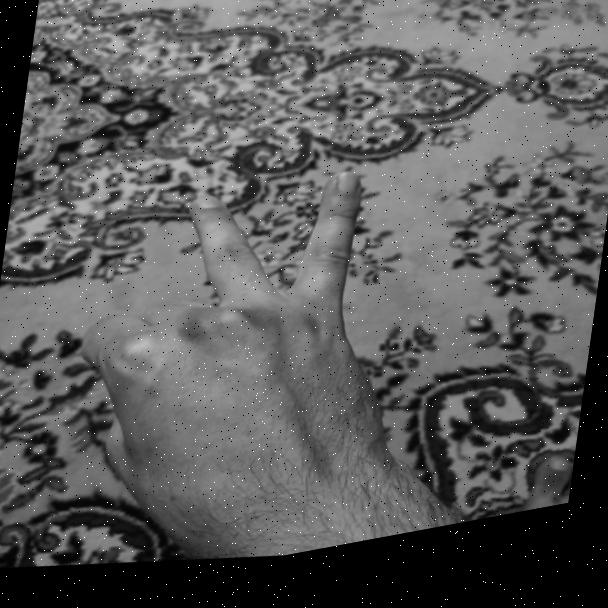five: (50, 133, 450, 601)
